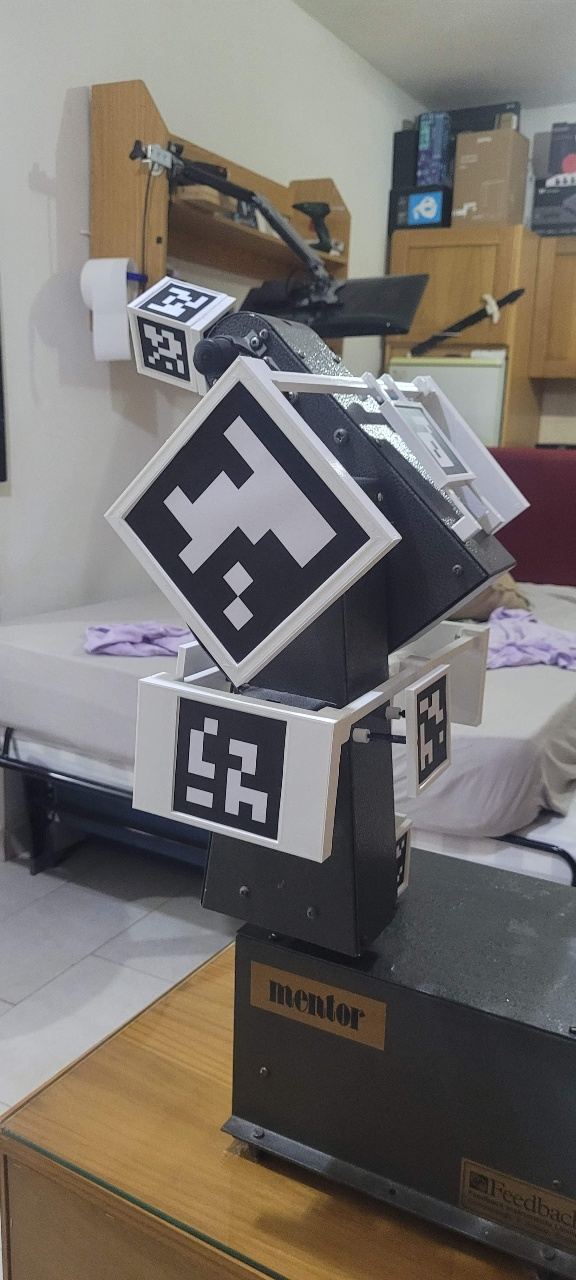Robot: (24, 260, 569, 1100)
